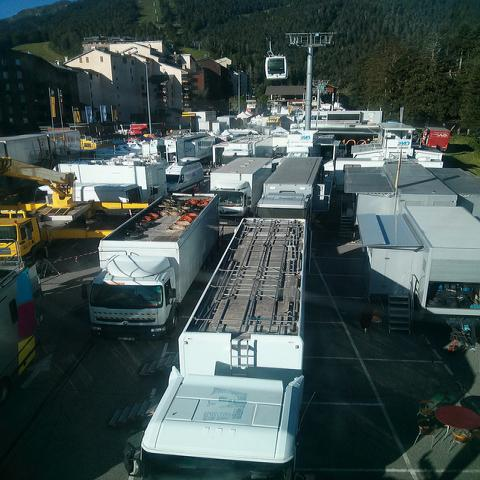truck: (130, 215, 311, 479), (82, 190, 224, 340), (255, 156, 326, 226), (211, 156, 273, 218)
